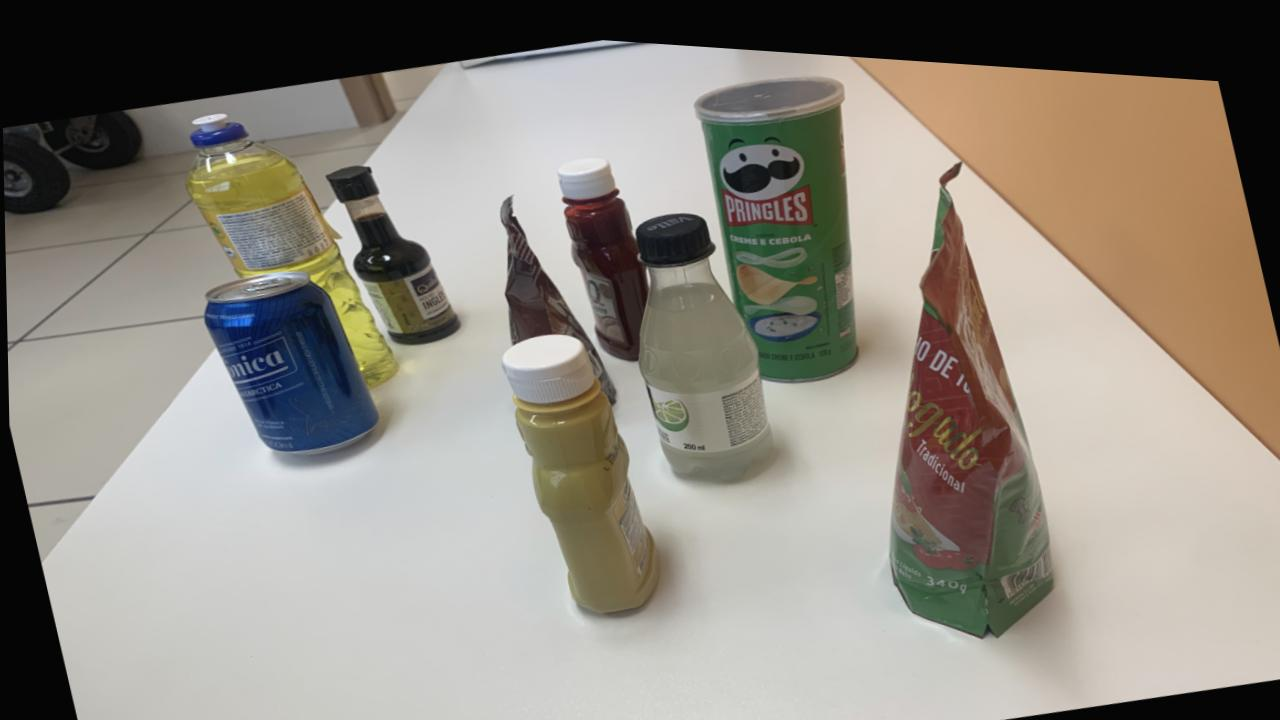Coffee-Pantry_Items: (498, 189, 615, 396)
Detergent-Cleanup_Items: (184, 110, 397, 383)
English_Sauce-Pantry_Items: (325, 160, 458, 339)
Ketchup-Pantry_Items: (556, 149, 648, 352)
Mustard-Pantry_Items: (500, 325, 657, 604)
Pringles-Snacks: (693, 64, 857, 371)
Soda-Drinks: (633, 204, 771, 470)
Tomato_Sauce-Pantry_Items: (887, 152, 1052, 622)
Tonic-Drinks: (202, 267, 376, 450)
